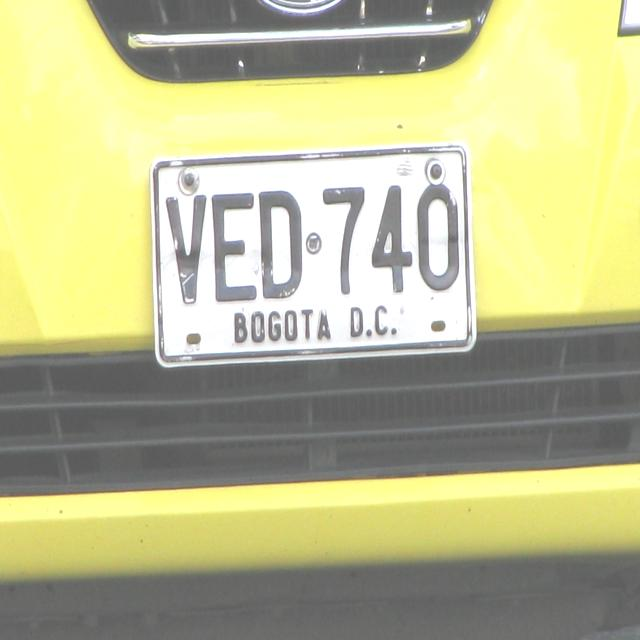placa: (145, 137, 480, 370)
